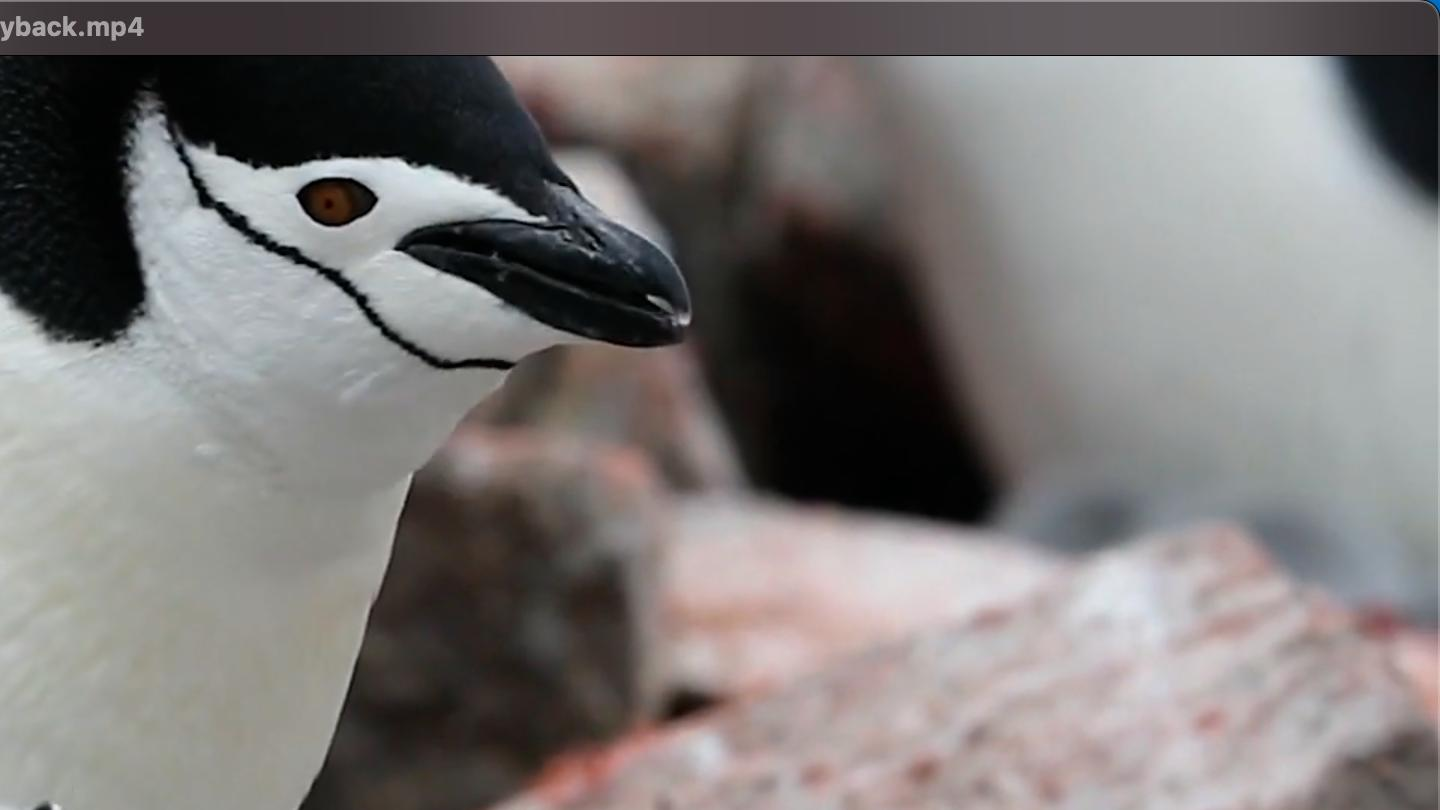Chinstrap Penguin: (0, 20, 721, 724)
